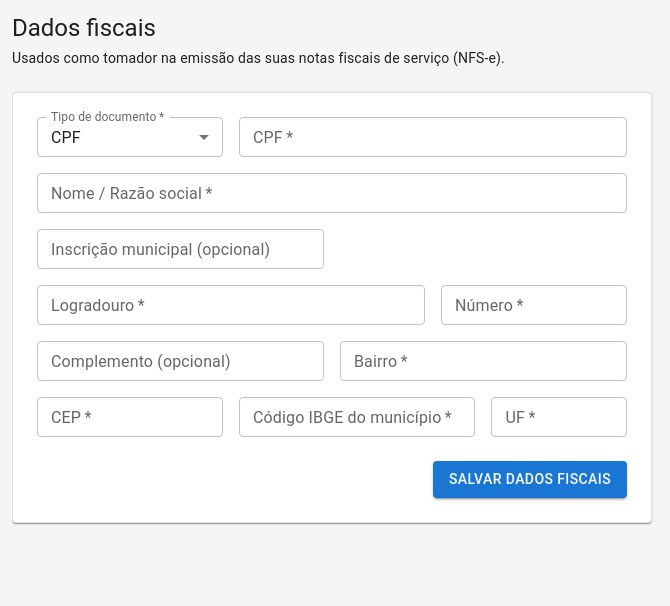
Test: DadosFiscaisTreinadorPage › exibe aviso não-bloqueante e mantém campos editáveis quando o serviço de CEP falha
Expected: the button "Salvar dados fiscais" is shown, top-left (433, 461), bottom-right (627, 498)
Step 1. Type "01001000" into the field labelled "CEP *" → x=130, y=417, box top-left (37, 397), bottom-right (223, 437)
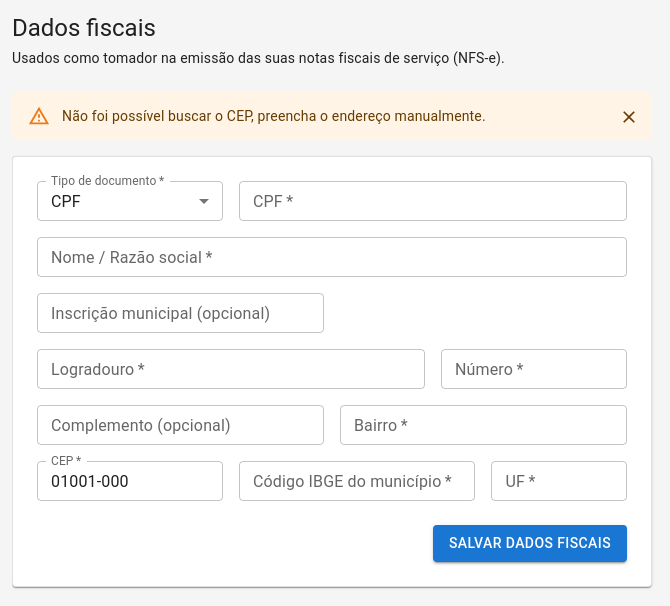
Expected: the field labelled "Logradouro *" is enabled, top-left (37, 349), bottom-right (425, 389)
Expected: the text "Não foi possível buscar o CEP" is shown, top-left (62, 108), bottom-right (486, 124)
